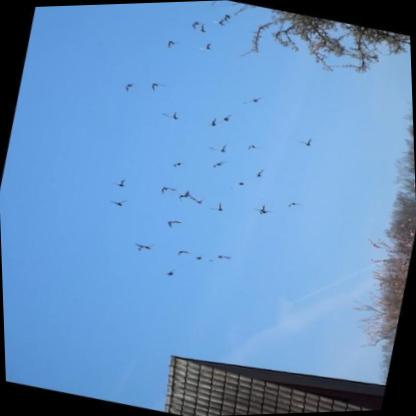bird: (240, 88, 267, 109), (250, 201, 276, 218), (209, 137, 232, 154), (157, 183, 179, 200), (216, 110, 237, 127), (109, 194, 129, 209), (147, 80, 167, 95), (162, 106, 182, 120), (296, 134, 316, 148), (204, 115, 221, 131), (110, 174, 127, 189), (187, 192, 205, 206), (208, 198, 226, 212), (165, 37, 181, 52), (165, 217, 183, 230), (245, 142, 263, 155), (121, 80, 137, 94), (198, 38, 214, 52), (250, 167, 266, 181), (212, 157, 229, 170), (286, 198, 303, 210), (173, 157, 188, 170), (229, 179, 244, 192), (177, 247, 193, 258), (217, 252, 232, 263), (133, 241, 146, 253), (181, 187, 194, 199), (190, 17, 201, 31), (212, 15, 226, 26), (164, 267, 177, 278), (142, 241, 156, 251), (199, 21, 210, 33), (222, 12, 233, 24), (190, 253, 203, 261), (176, 192, 186, 201)
